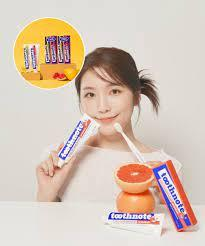toothpaste: (46, 107, 101, 172), (101, 206, 172, 241)
